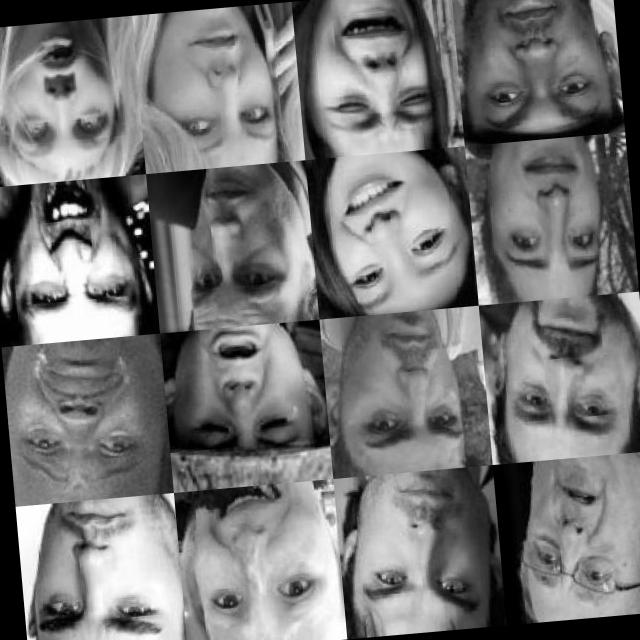angry: (330, 314, 472, 458), (0, 186, 132, 327)
fear: (0, 21, 115, 165)
happy: (319, 161, 467, 300)
neutral: (140, 6, 287, 168), (154, 168, 303, 321), (489, 300, 629, 456), (336, 480, 481, 628), (27, 494, 171, 640), (510, 457, 640, 613), (463, 0, 607, 127)
sad: (3, 348, 154, 488), (182, 490, 322, 638), (478, 138, 618, 278), (170, 330, 306, 466), (310, 0, 441, 140)
